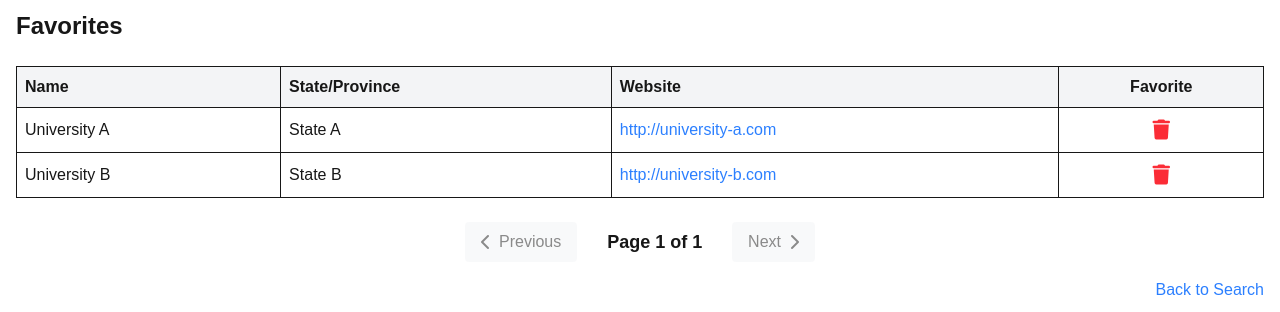
Test: FavoritesPage Component › removes a favorite when the remove button is clicked
Expected: the text "University A" is shown, [16,108,281,152]
// Use 'within' to find the remove button in that row.
Click the button without text in the row of "University A".
click(1161, 130)  # box [1140,116,1182,144]
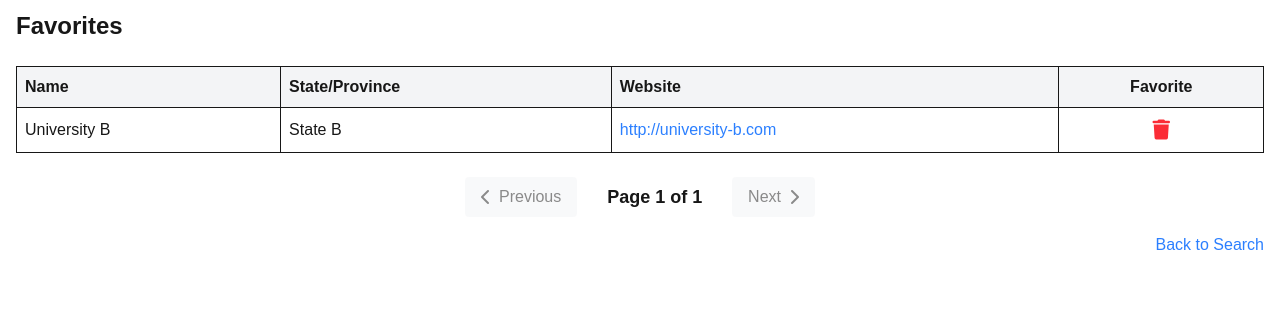
Expected: the text "University A" is gone
